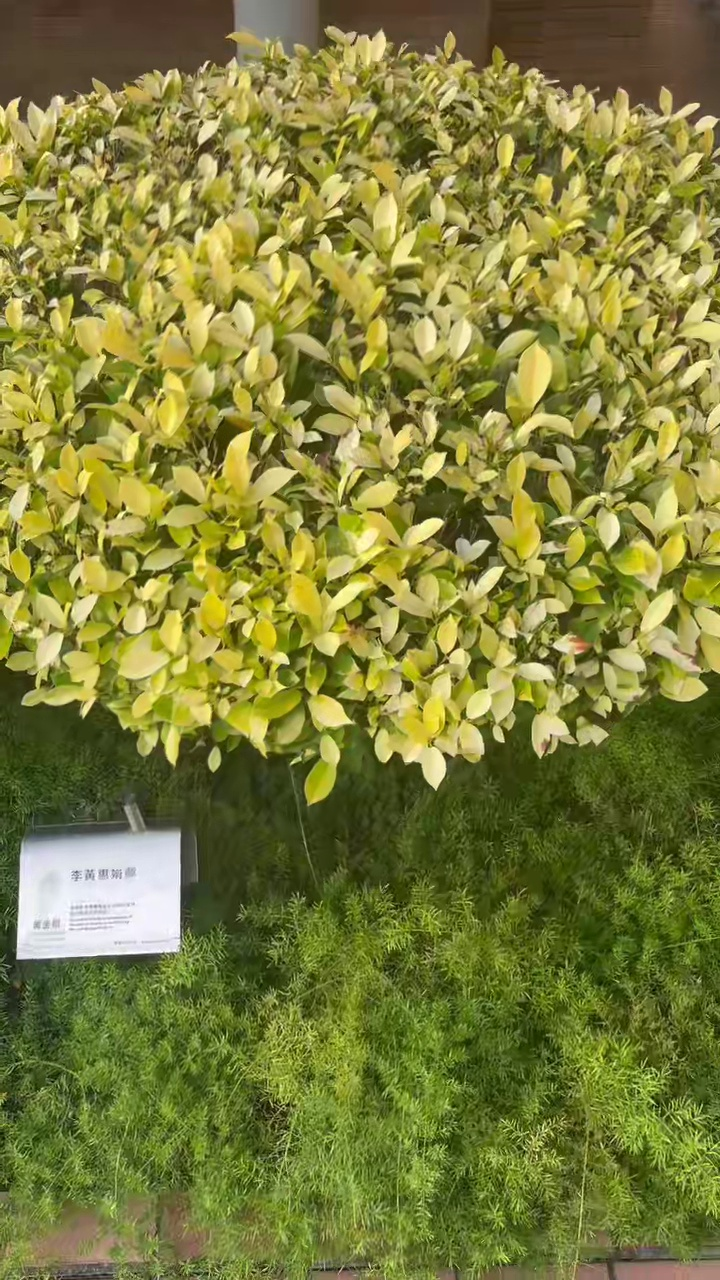Golden-leaves Fig: (0, 28, 719, 800)
